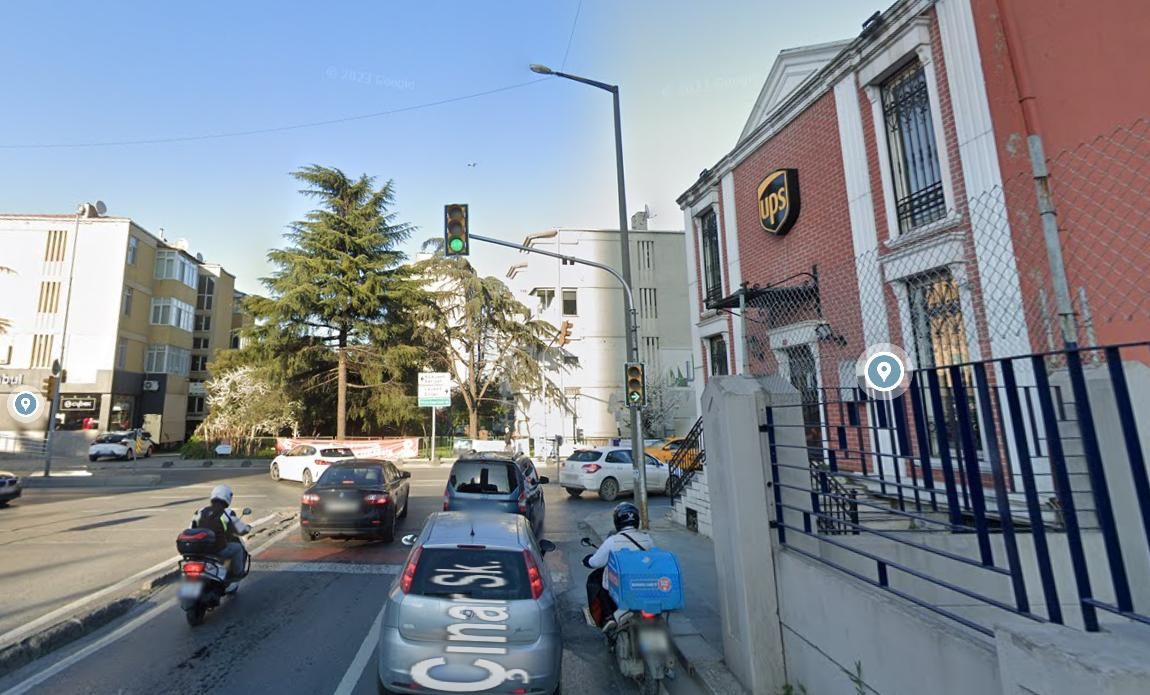greenlight: (441, 199, 474, 262)
